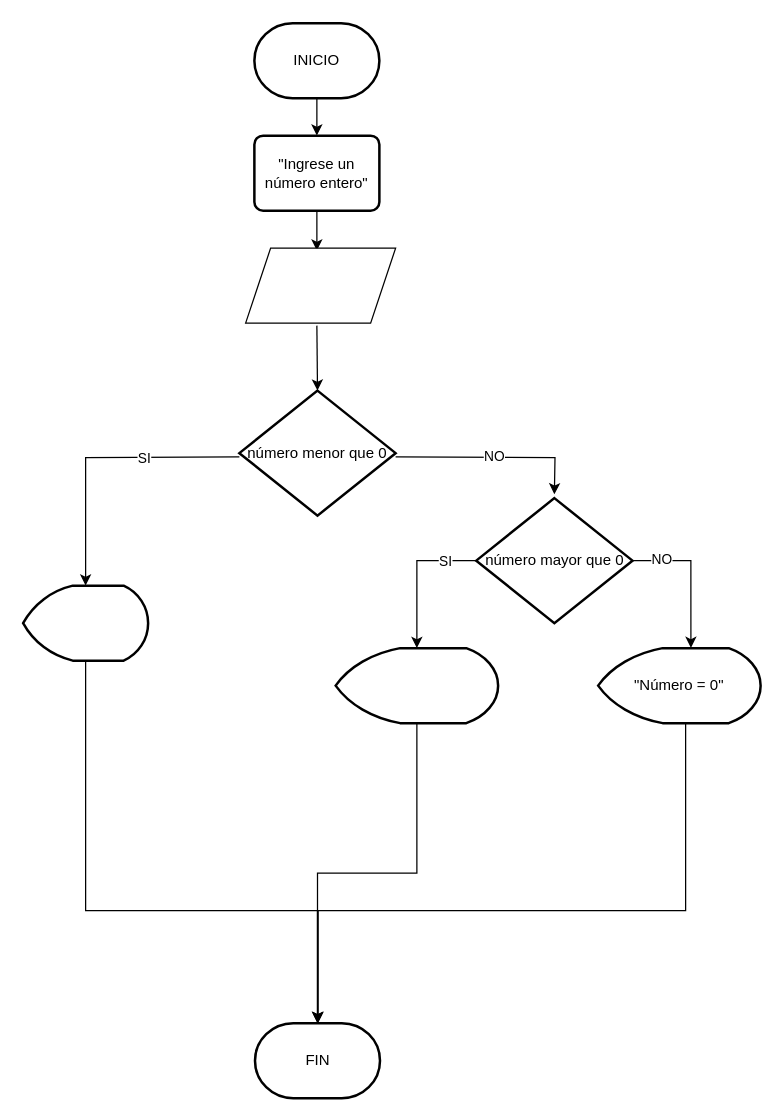
The diagram is 783 pixels wide and 1120 high, and some of its shapes have lost their labels. The box of each missing label's shape, as (x1, y1, x2, y2) in pixels:
"Número negativo": (21, 584, 149, 661)
"Número positivo": (334, 646, 499, 724)
número: (244, 247, 396, 323)
